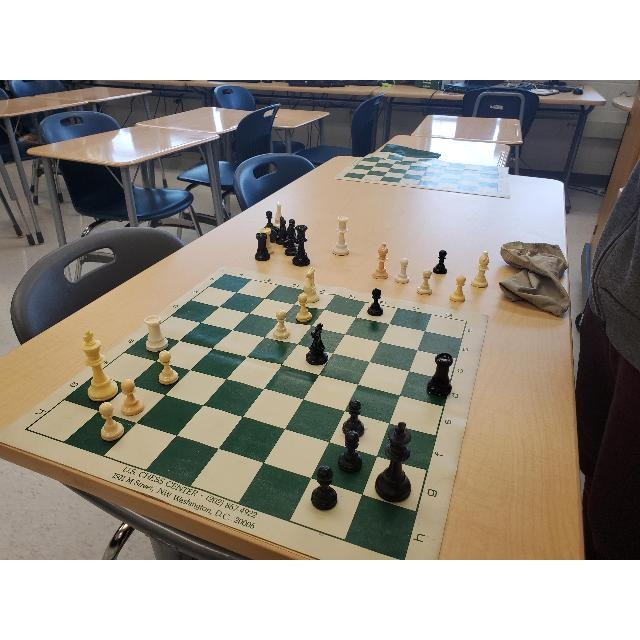black-knight: (306, 321, 328, 367)
black-pawn: (334, 427, 366, 473), (310, 461, 338, 512), (342, 396, 368, 438), (366, 288, 383, 318)
black-rook: (422, 351, 453, 397)
white-king: (80, 329, 120, 403)
white-knight: (298, 266, 322, 306)
white-pawn: (98, 399, 127, 443), (119, 378, 145, 417), (156, 347, 180, 387), (271, 309, 293, 340), (293, 292, 311, 321)
white-rook: (143, 316, 169, 352)
